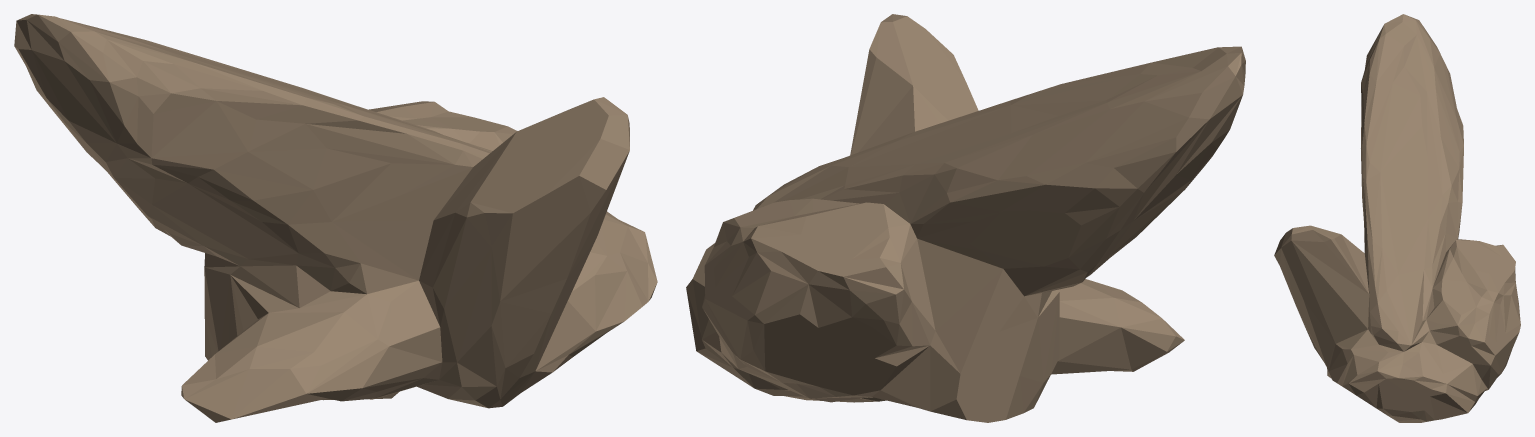
The model's file is SM_Env_Rock_Spikes_04.fbx.
The picture shows the model from 3 angles, left to right: view 1: azimuth 30°, elevation 25°; view 2: azimuth 150°, elevation 25°; view 3: azimuth 270°, elevation 25°; orthographic projection. The views are drawn at different scales.
Visible parts, largest first — view 1: SM_Env_Rock_Spikes_04; view 2: SM_Env_Rock_Spikes_04; view 3: SM_Env_Rock_Spikes_04.
Part boxes in pixels (left/top/right/bottom): SM_Env_Rock_Spikes_04: left=14, top=14, right=657, bottom=422; SM_Env_Rock_Spikes_04: left=686, top=14, right=1245, bottom=422; SM_Env_Rock_Spikes_04: left=1274, top=14, right=1520, bottom=422.
Bounding box in the file's own units: 2332 × 1761 × 1464.
